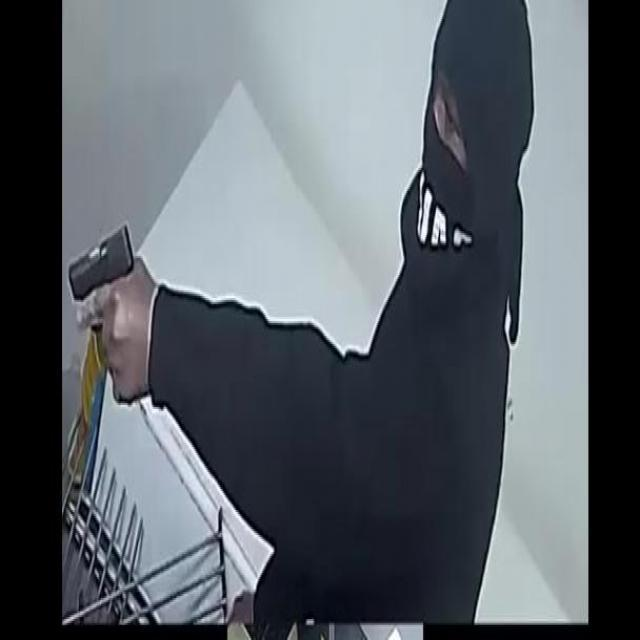Gun: (64, 214, 142, 409)
